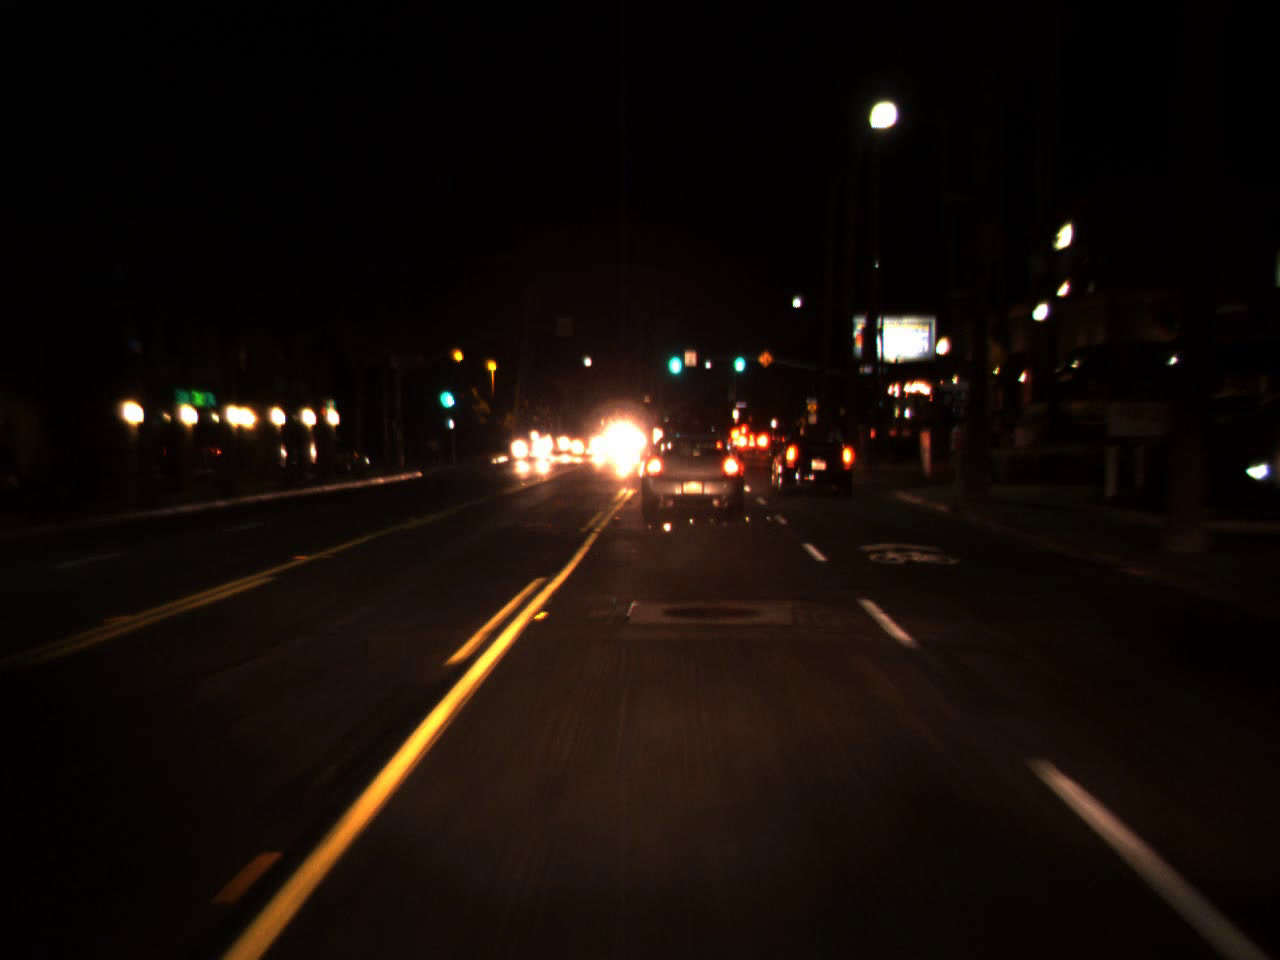go: (663, 335, 684, 380), (437, 369, 451, 414)
